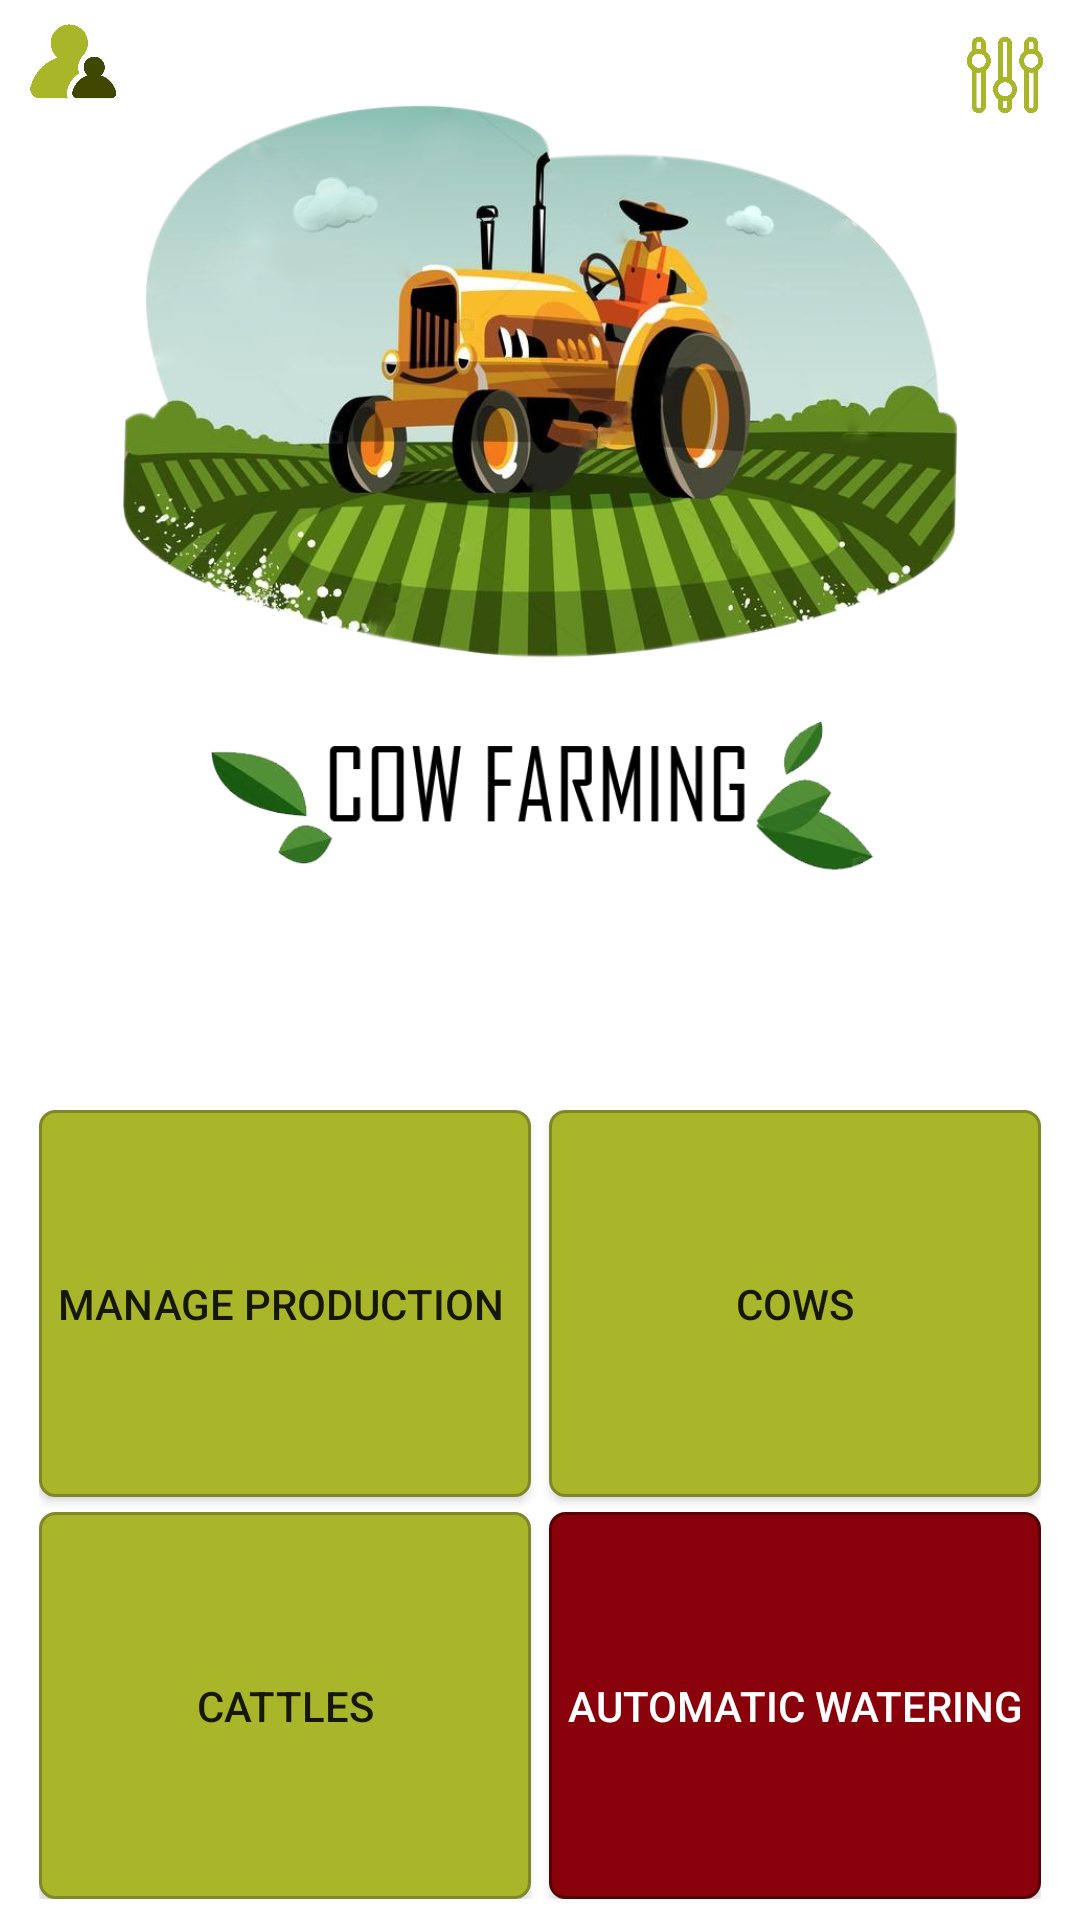

Where icons sit on this 1080px x 1920px app screen, as (x1, y1, x2, y2):
about us: (30, 24, 116, 99)
conf: (967, 37, 1043, 113)
